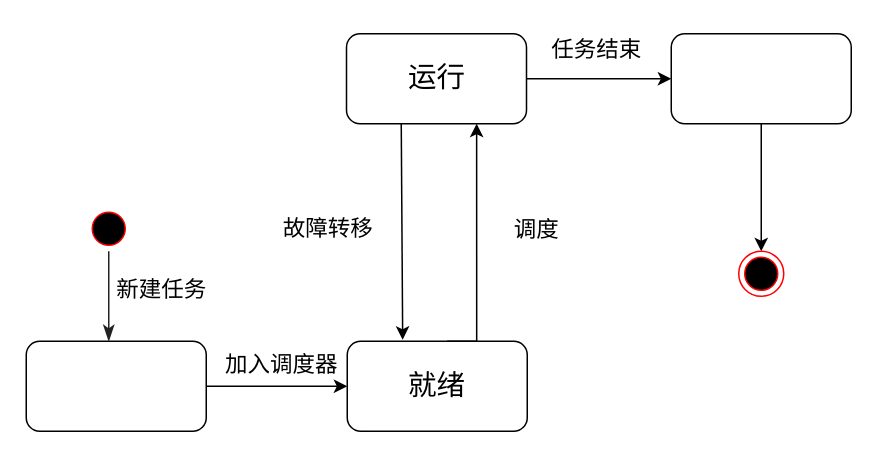
This 878x458 diagram has some shape labels left out. Each missing label, with the centre of its shape:
"新建" goes at [115,385].
"终止" goes at [760,78].
